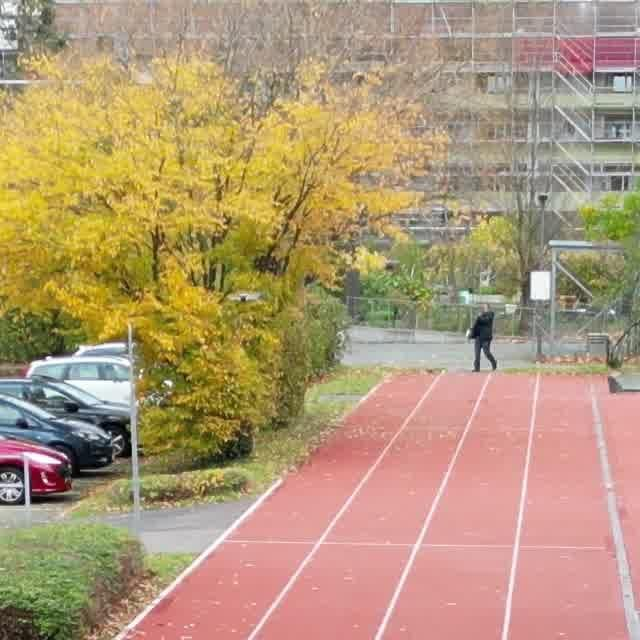Drohne: (230, 292, 261, 302)
